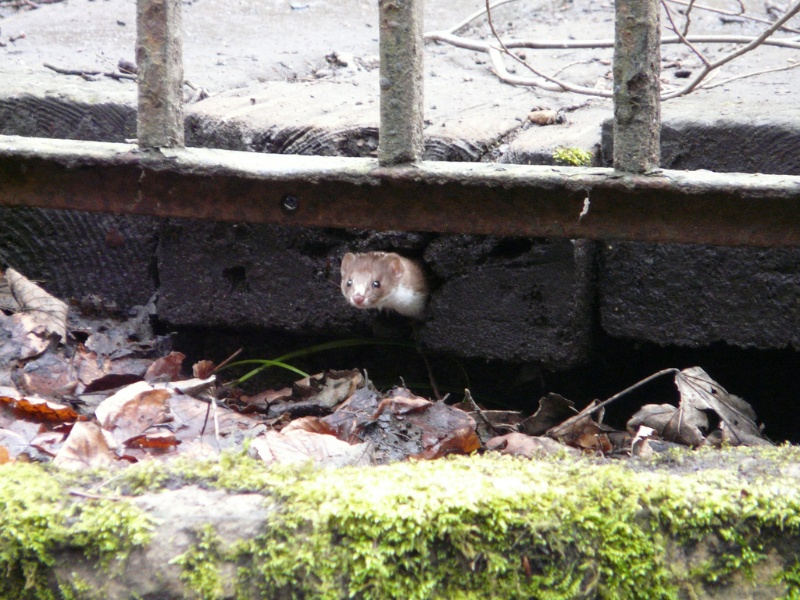minkish: (327, 248, 440, 332)
